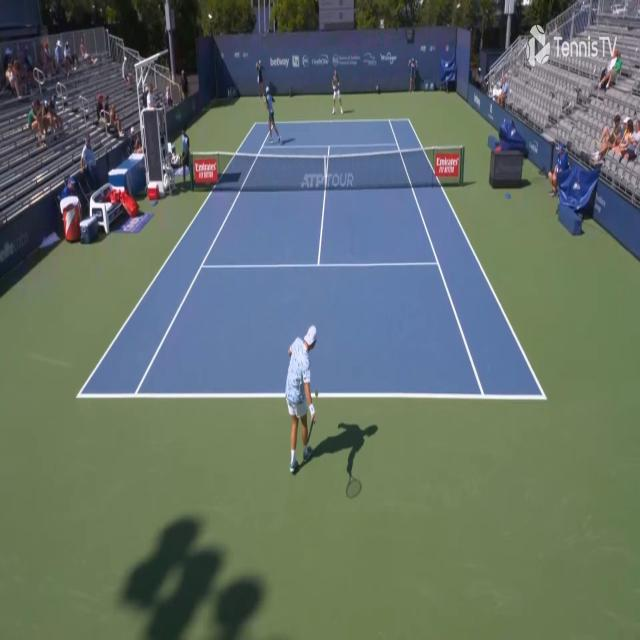tennis-player: (282, 322, 320, 476), (330, 64, 343, 116)
